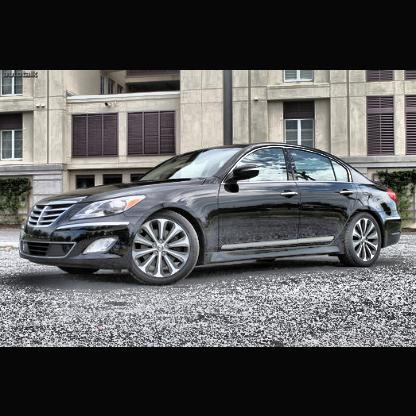Hyundai Genesis Sedan 2012: (20, 142, 403, 284)
